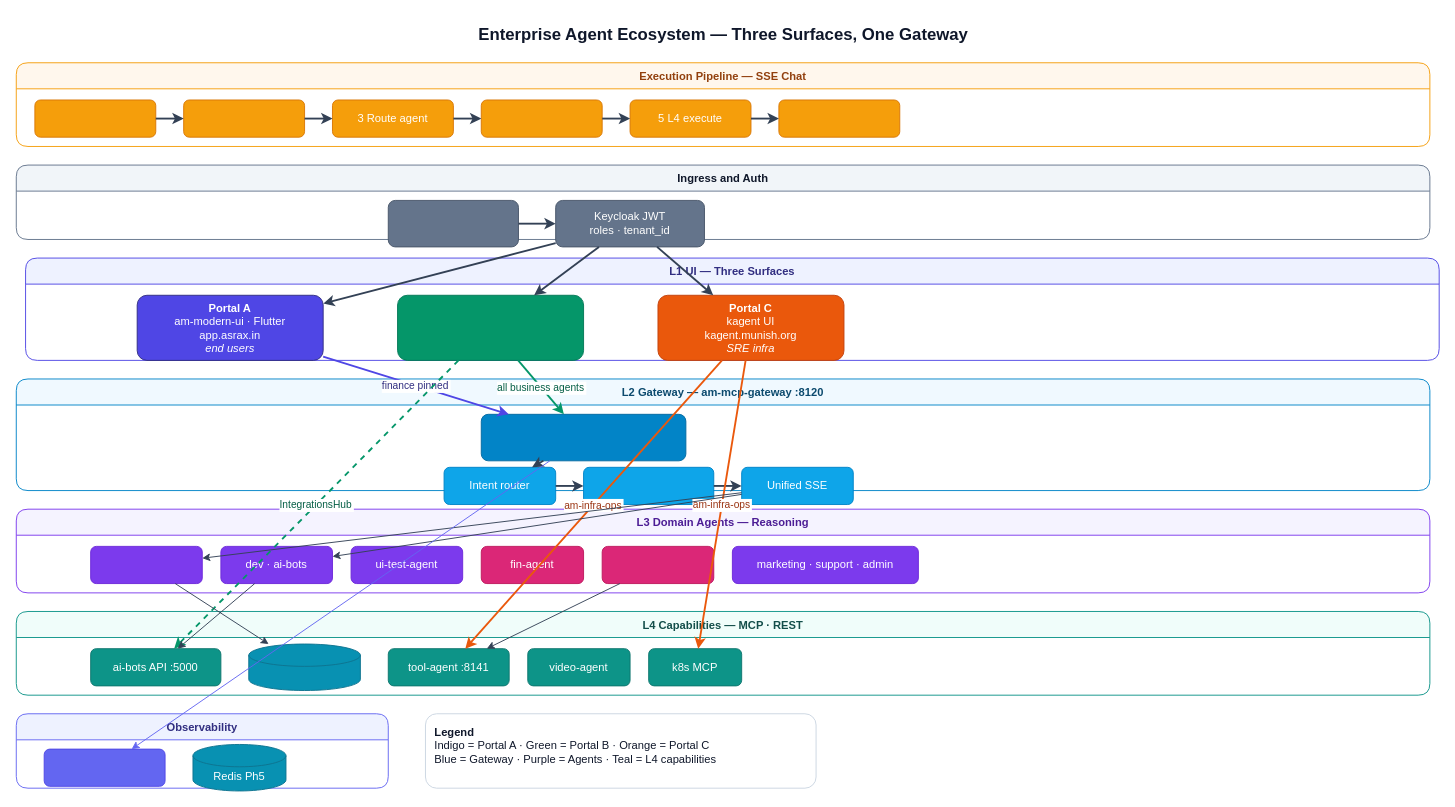
The diagram is 1455 pixels wide and 807 high, and some of its shapes have lost their labels. Each missing label, with the centre of its shape:
"1 User message" belongs at [95,118].
"2 Auth + RBAC" belongs at [244,118].
"4 Agent run" belongs at [541,118].
"6 SSE response" belongs at [839,118].
"am-mcp-gateway POST /api/v1/chat/stream" belongs at [583,437].
"company-memory" belongs at [304,667].
"devops-agent" belongs at [657,564].
"Langfuse traces" belongs at [104,767].
"Portal B ai-bots · React workspace.asrax.in B2B workspace" belongs at [490,327].
"RBAC · agents.yaml" belongs at [648,485].
"scribe-agent" belongs at [146,564].
"Traefik host routing" belongs at [452,223].
